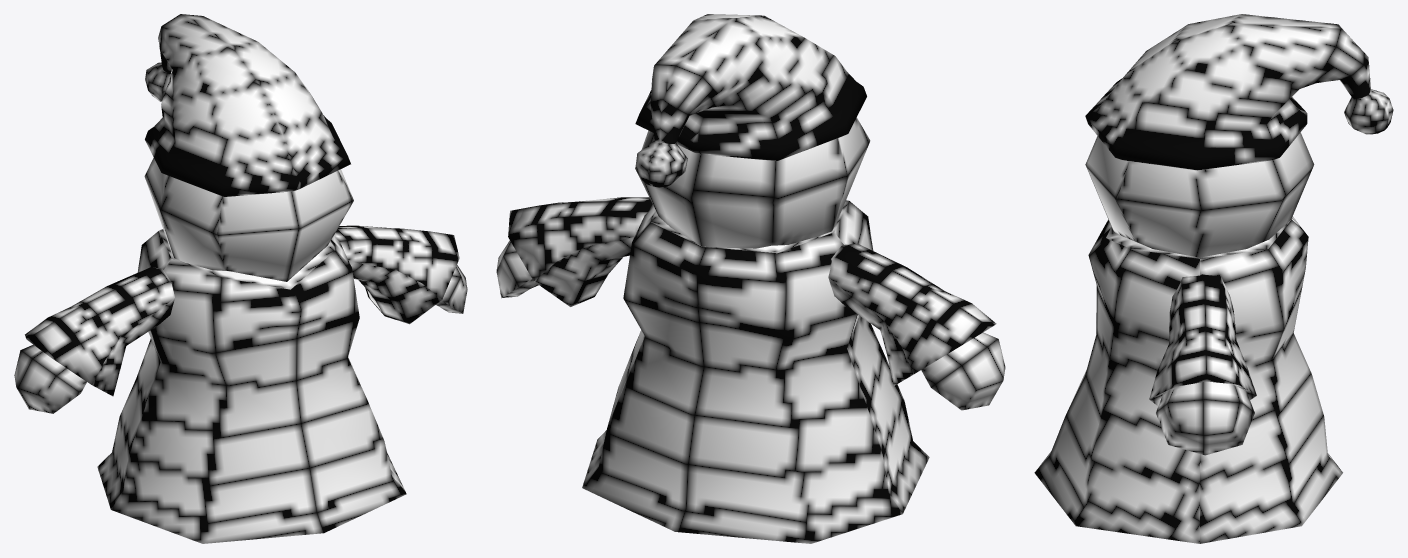
The model's file is Billy.obj.
The picture shows the model from 3 angles, left to right: view 1: azimuth 30°, elevation 25°; view 2: azimuth 150°, elevation 25°; view 3: azimuth 270°, elevation 25°; orthographic projection. The views are drawn at different scales.
Parts seen in each view (by area): view 1: Cube1; view 2: Cube1; view 3: Cube1.
Boxes of the visible parts, x1=… form: Cube1: x1=14, y1=14, x2=467, y2=543; Cube1: x1=496, y1=14, x2=1005, y2=543; Cube1: x1=1034, y1=14, x2=1393, y2=543.
Size of the model in its own units: 3.57 by 3.18 by 2.3.
Materials: 1 (1 with a texture image).
